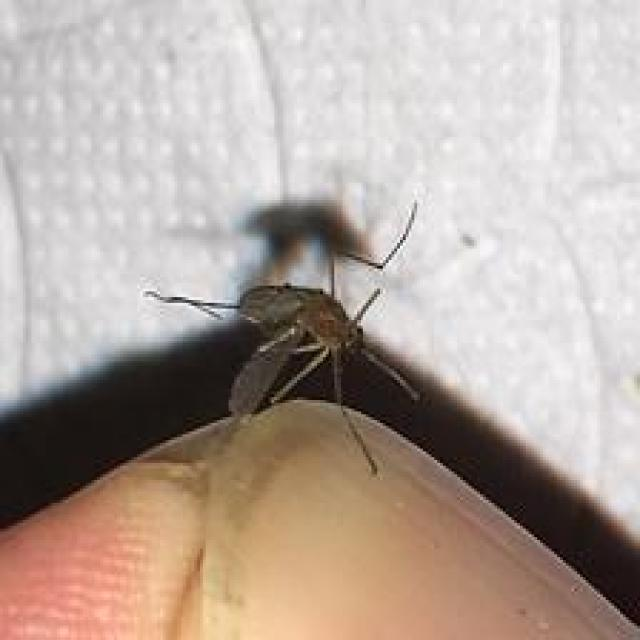Culex: (142, 193, 424, 476)
